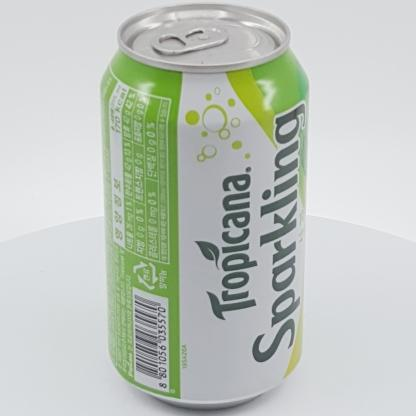-------------355ML: (99, 2, 310, 411)
